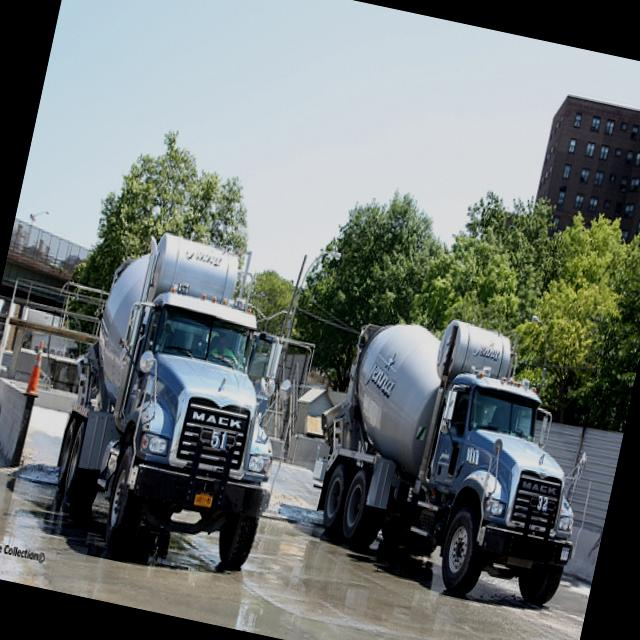Vehicle: (292, 297, 622, 619), (39, 218, 318, 580)
